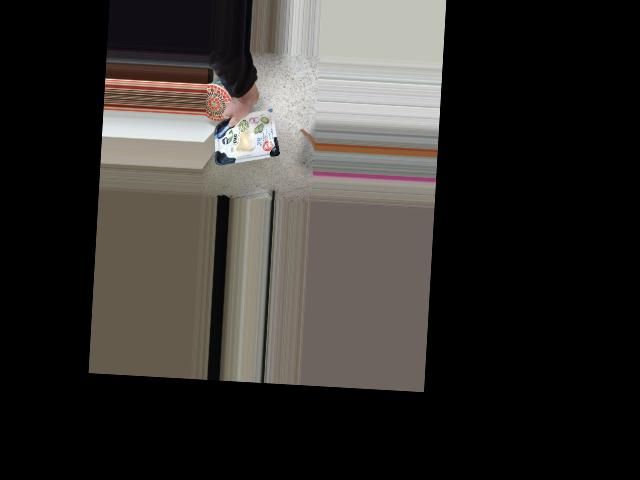cheese: (208, 111, 282, 163)
